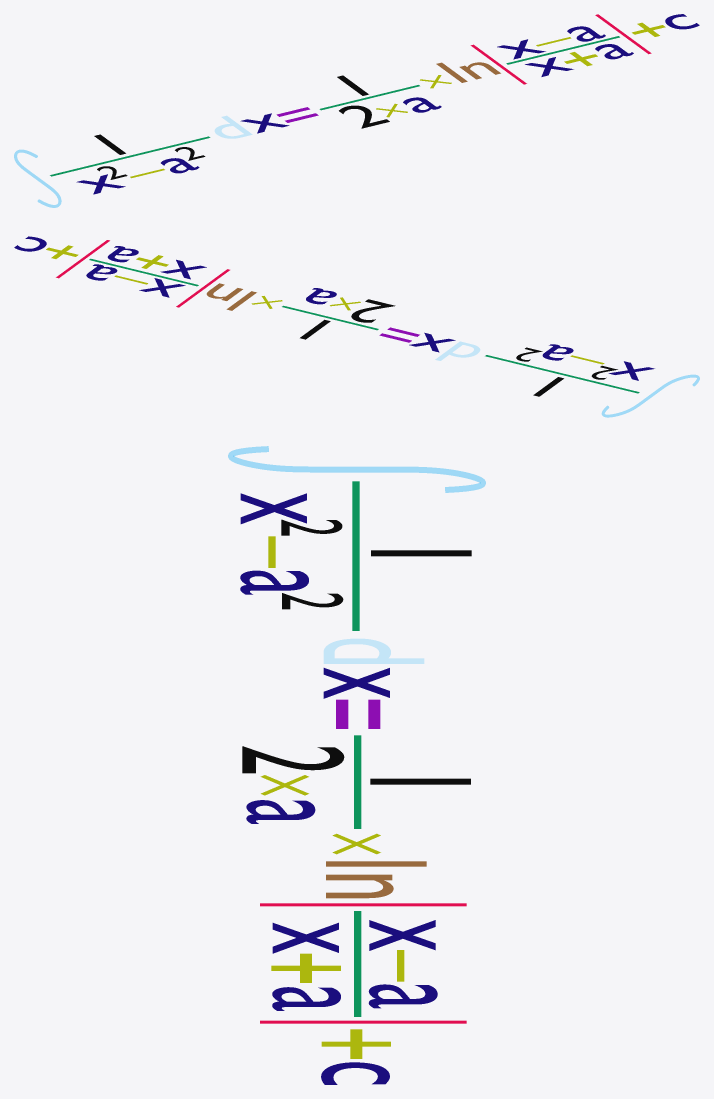
File: int1pexla2minusala2.glb
3 views of the same model, one above another, from view 1: azimuth 30°, elevation 25°; view 2: azimuth 150°, elevation 25°; view 3: azimuth 270°, elevation 25° (orthographic). The views are drawn at different scales.
Parts seen in each view (by area): view 1: int din 1 pe x la 2 minus a la 2 dx; view 2: int din 1 pe x la 2 minus a la 2 dx; view 3: int din 1 pe x la 2 minus a la 2 dx.
Part boxes in pixels (<box>): int din 1 pe x la 2 minus a la 2 dx: <box>14,14,699,207</box>; int din 1 pe x la 2 minus a la 2 dx: <box>14,236,699,417</box>; int din 1 pe x la 2 minus a la 2 dx: <box>228,446,485,1084</box>.
Size of the model in its own units: 10.22 by 0.0401 by 1.75.
